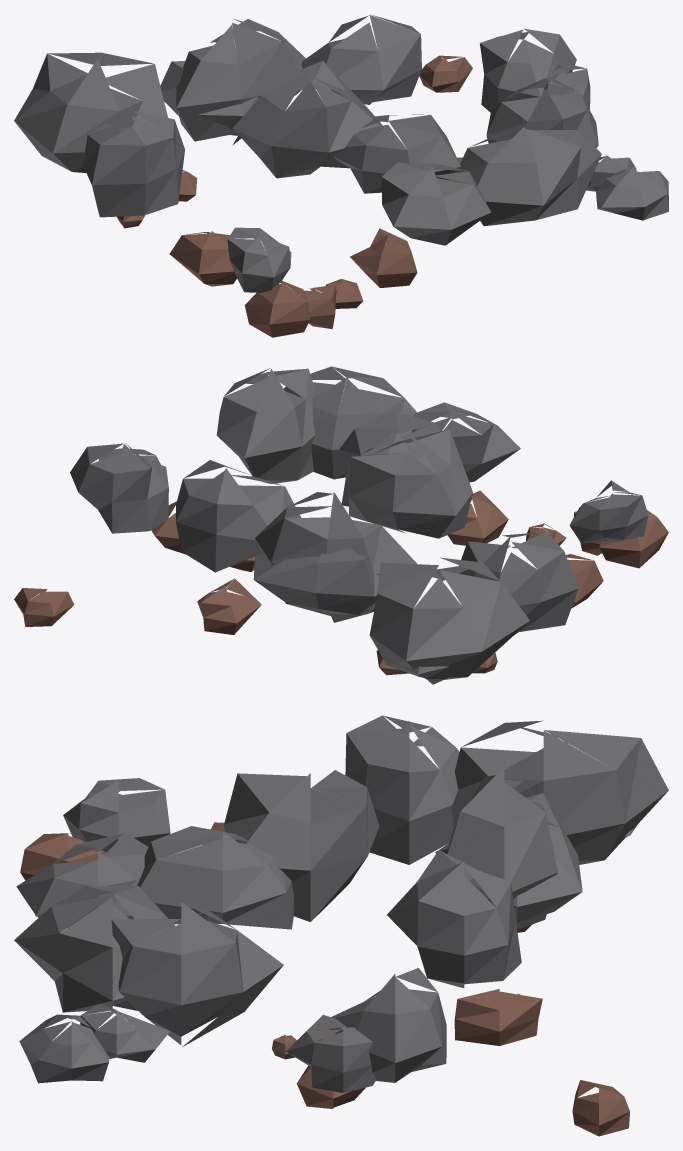
File: volcano-and-lava-fields-volcano-and-lava-fields-rockfa-dbacf162__37476.glb
The picture shows the model from 3 angles, top to bottom: view 1: azimuth 30°, elevation 25°; view 2: azimuth 150°, elevation 25°; view 3: azimuth 270°, elevation 25°; orthographic projection. The views are drawn at different scales.
Parts seen in each view (by area): view 1: volcano-and-lava-fields-rockfall-pile; view 2: volcano-and-lava-fields-rockfall-pile; view 3: volcano-and-lava-fields-rockfall-pile.
Boxes of the visible parts, x1,y1,x2,y2 form: volcano-and-lava-fields-rockfall-pile: [14, 14, 668, 337]; volcano-and-lava-fields-rockfall-pile: [14, 366, 668, 684]; volcano-and-lava-fields-rockfall-pile: [14, 715, 668, 1136].
Size of the model in its own units: 2.66 by 0.863 by 2.39.
2 materials, 2 textured.
